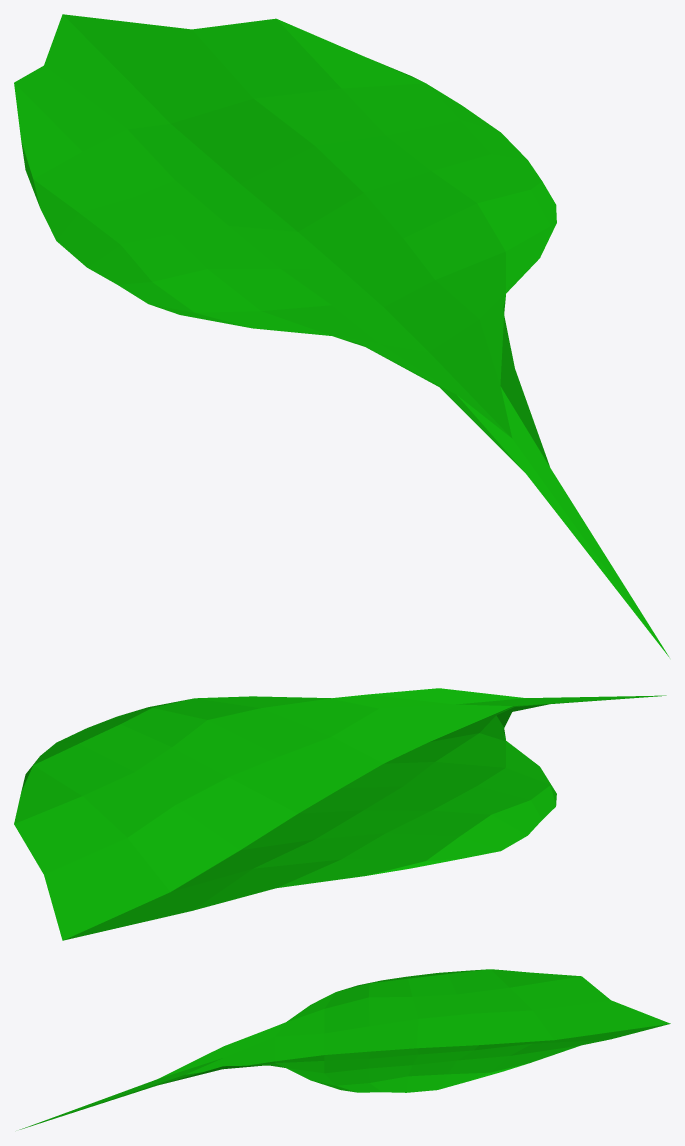
Rendered from simpleLeaf1.fbx.
3 views of the same model, one above another, from view 1: azimuth 30°, elevation 25°; view 2: azimuth 150°, elevation 25°; view 3: azimuth 270°, elevation 25° (orthographic). The views are drawn at different scales.
Visible parts, largest first — view 1: Plane; view 2: Plane; view 3: Plane.
Part boxes in pixels (left/top/right/bottom): Plane: left=14, top=14, right=669, bottom=657; Plane: left=14, top=688, right=666, bottom=940; Plane: left=19, top=969, right=670, bottom=1129.
Bounding box in the file's own units: 1.29 × 0.6237 × 3.07.
Materials: 1 (1 with a texture image).
